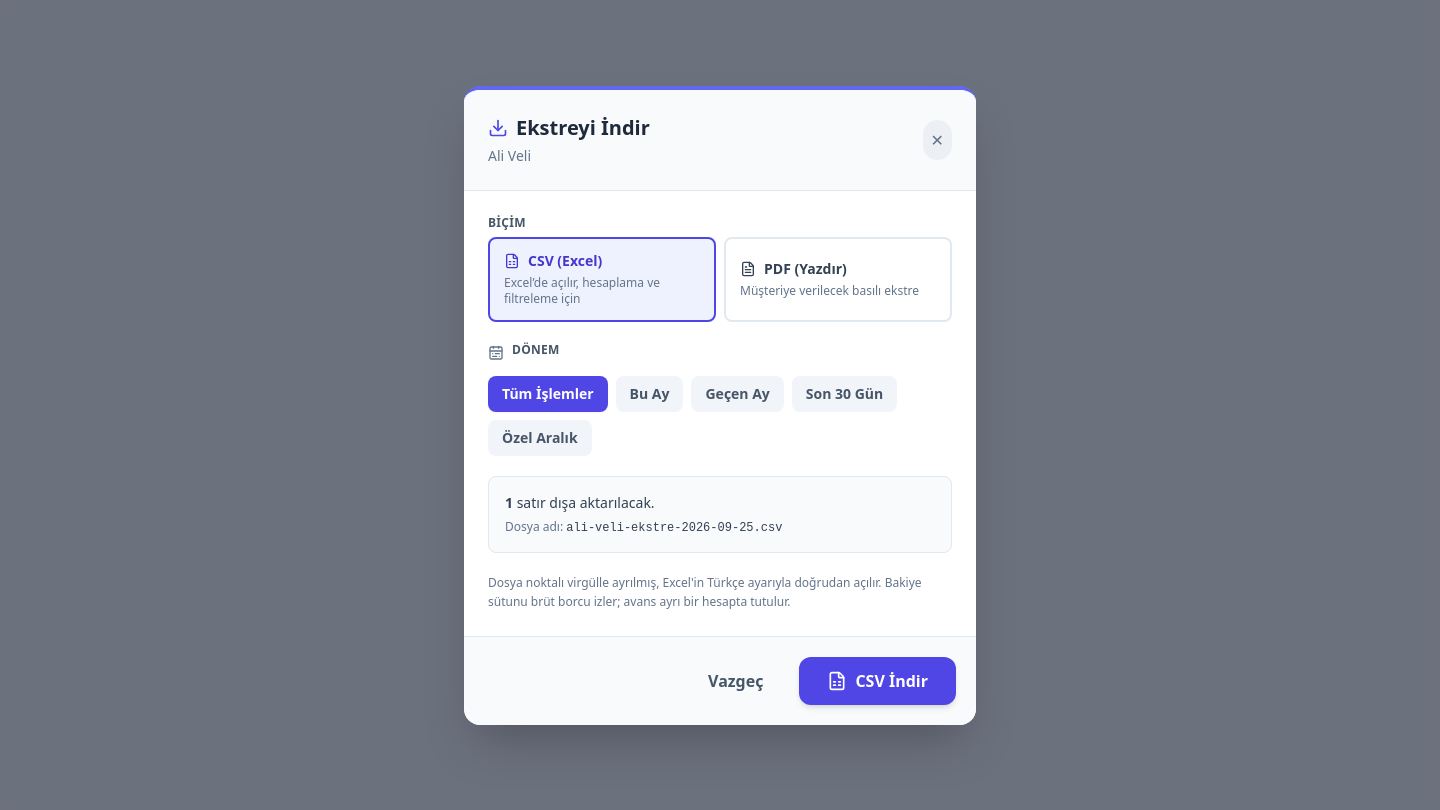
Test: StatementExportModal › secilen donem disindaki hareketler sayilmaz
This screenshot has width=1440, height=810.
Click the button "Bu Ay" at (650, 394), box [616,376,684,412]
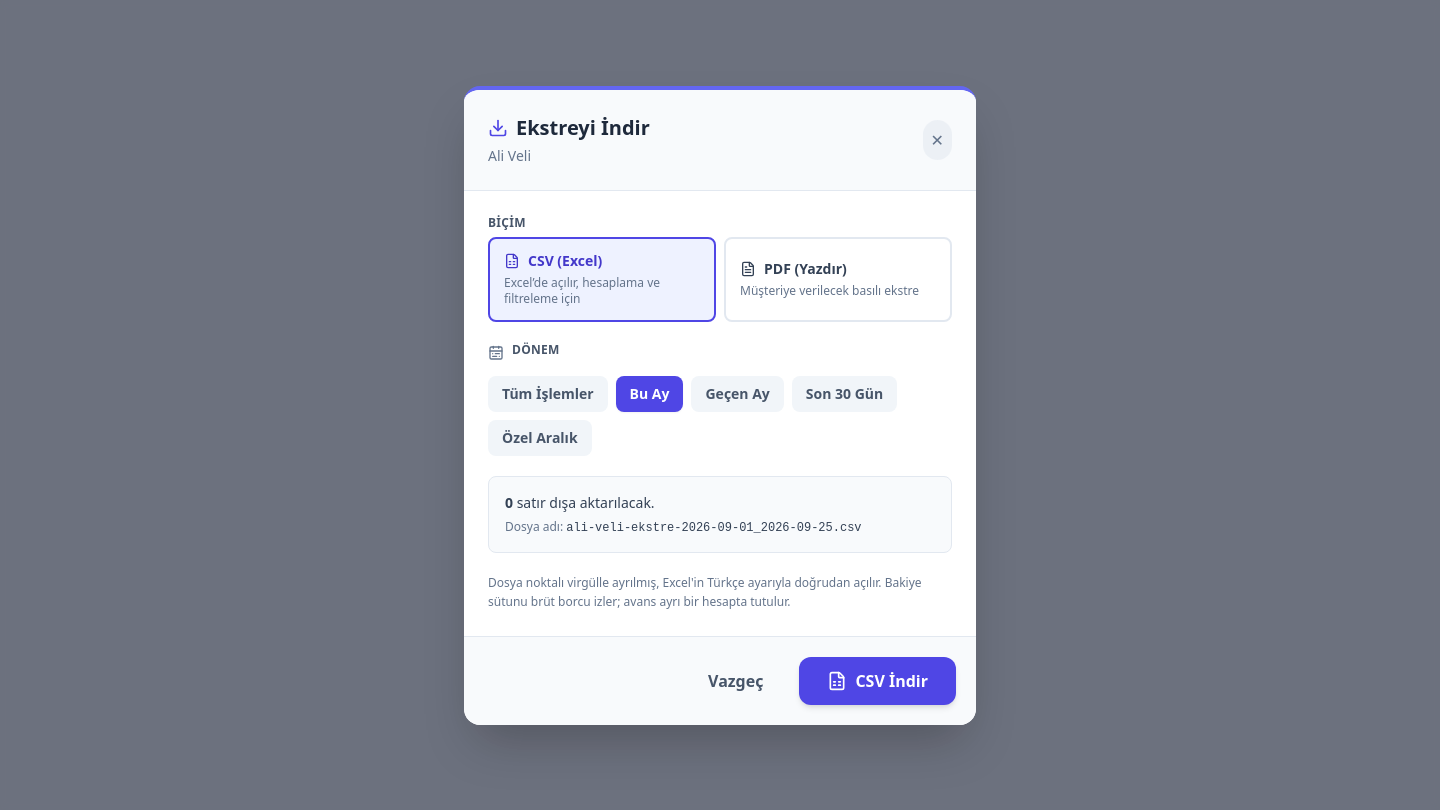
Click the button "CSV İndir" at (878, 680), box [799,656,956,704]
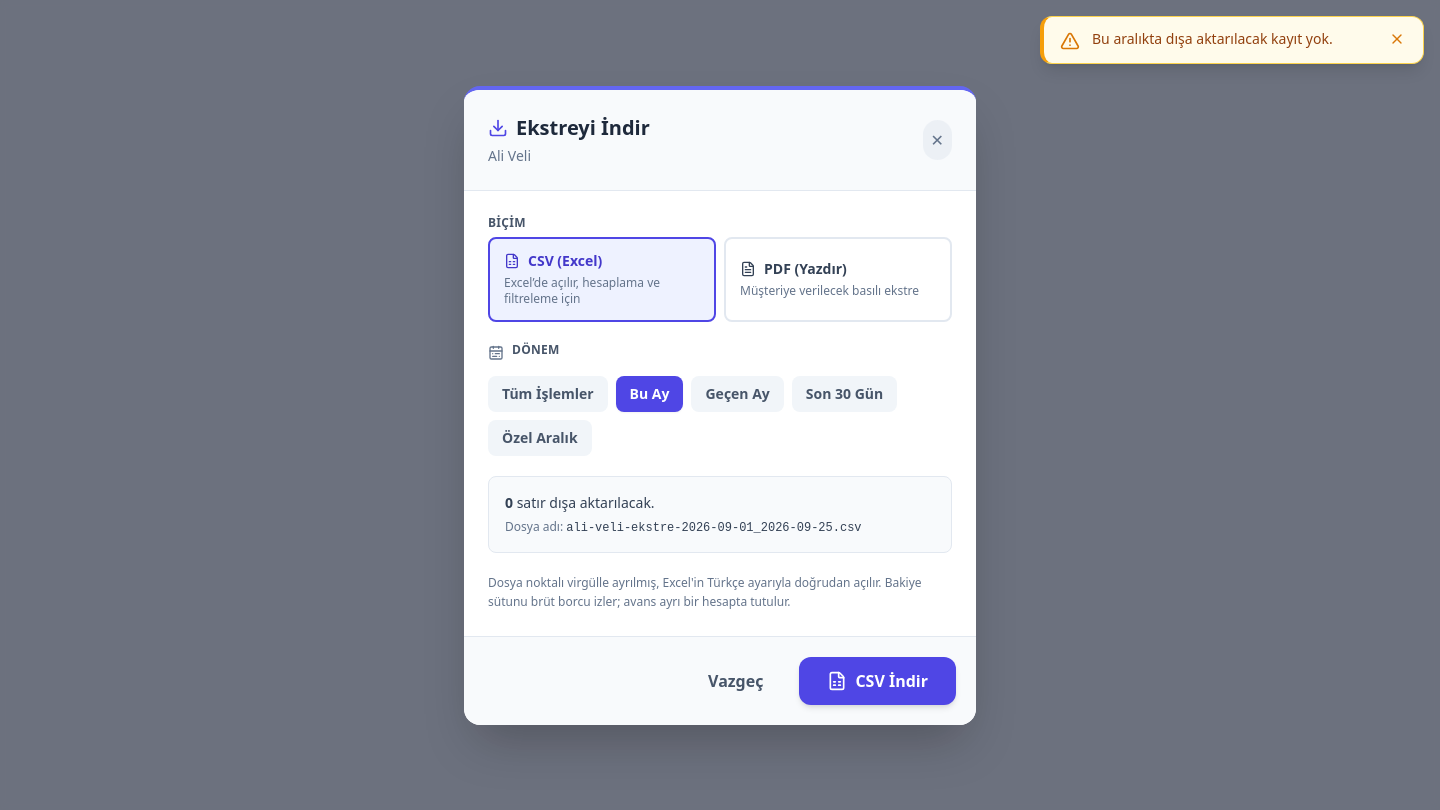
Check: the text "Bu aralıkta dışa aktarılacak kayıt yok." is shown, box [1092,29,1375,49]
